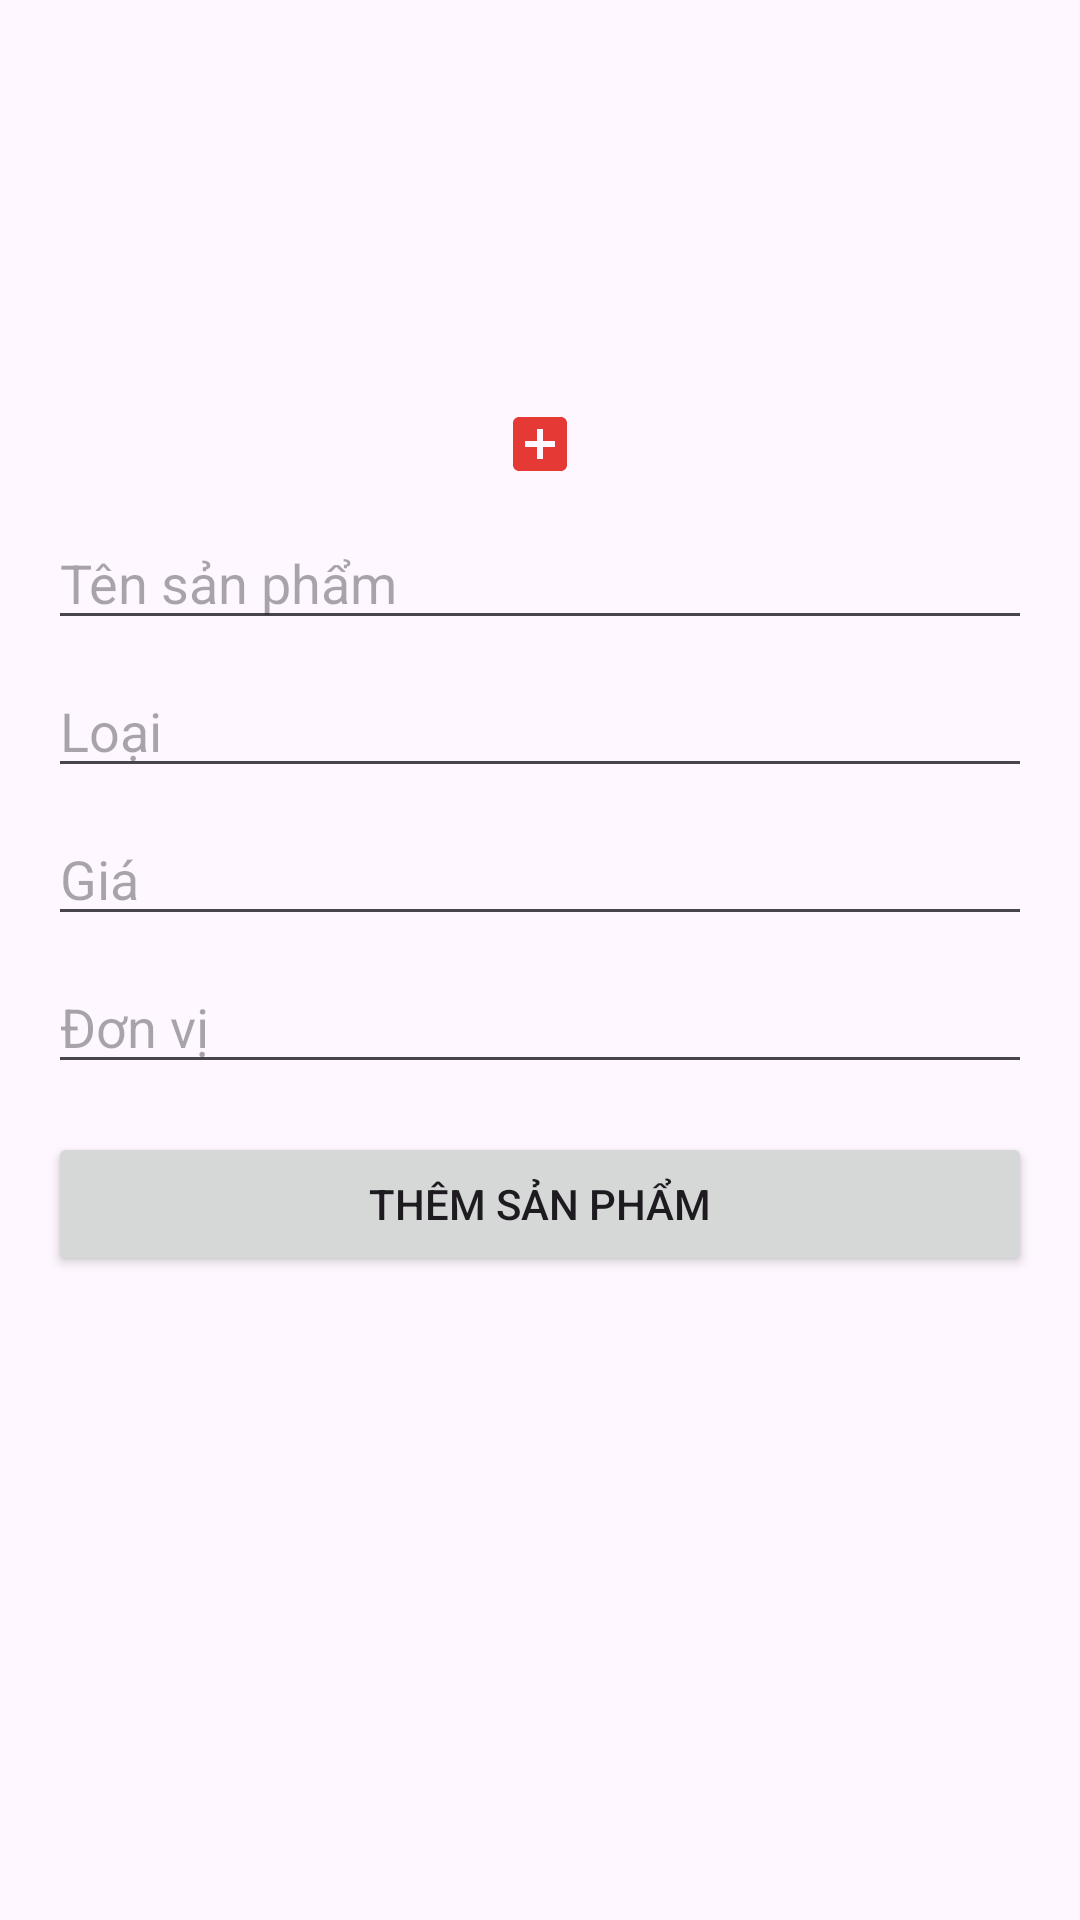

Point at icon controls on the screen. Image size 1080px x 1920px, points as (x=x, y=y).
Chọn ảnh: (x=540, y=444)
